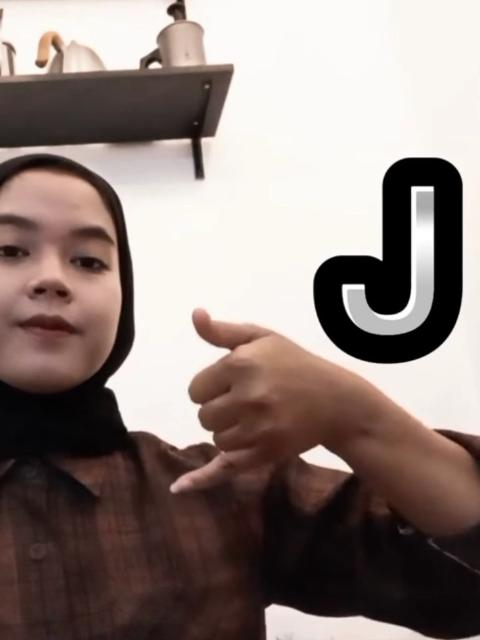J: (157, 305, 336, 507)
